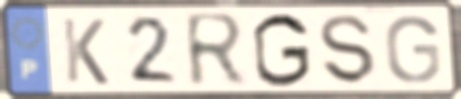2: (125, 13, 179, 89)
G: (249, 11, 313, 90), (382, 13, 443, 86)
K: (59, 16, 112, 87)
R: (181, 10, 250, 92)
S: (316, 13, 379, 87)
